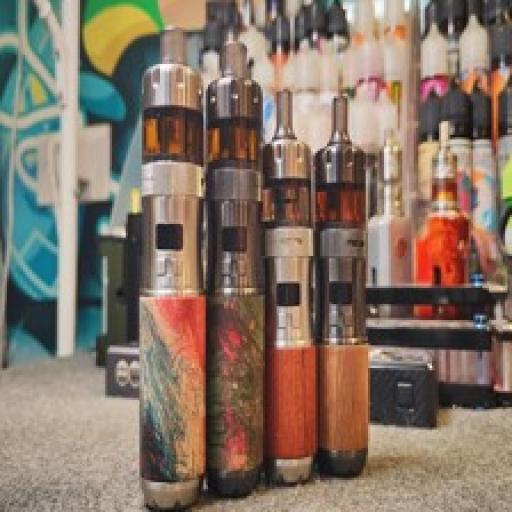lightsaber: (140, 64, 206, 511), (207, 42, 262, 500), (317, 98, 369, 477), (266, 88, 315, 482)
